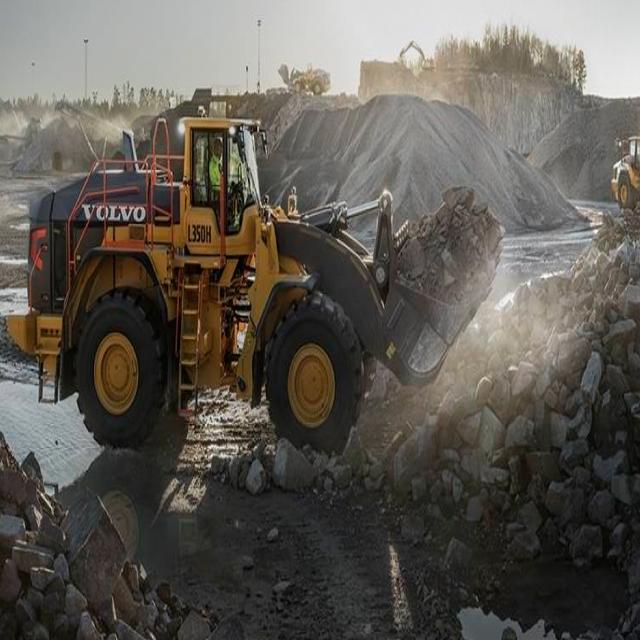buldozerpayloadergrader: (31, 100, 385, 468)
